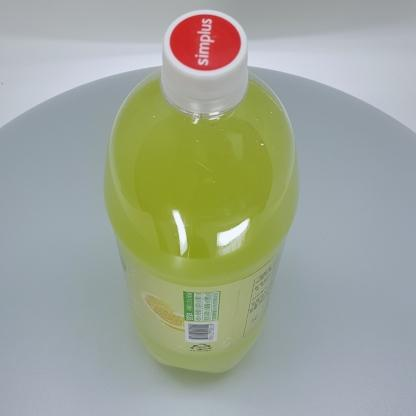----------------: (103, 9, 299, 373)
